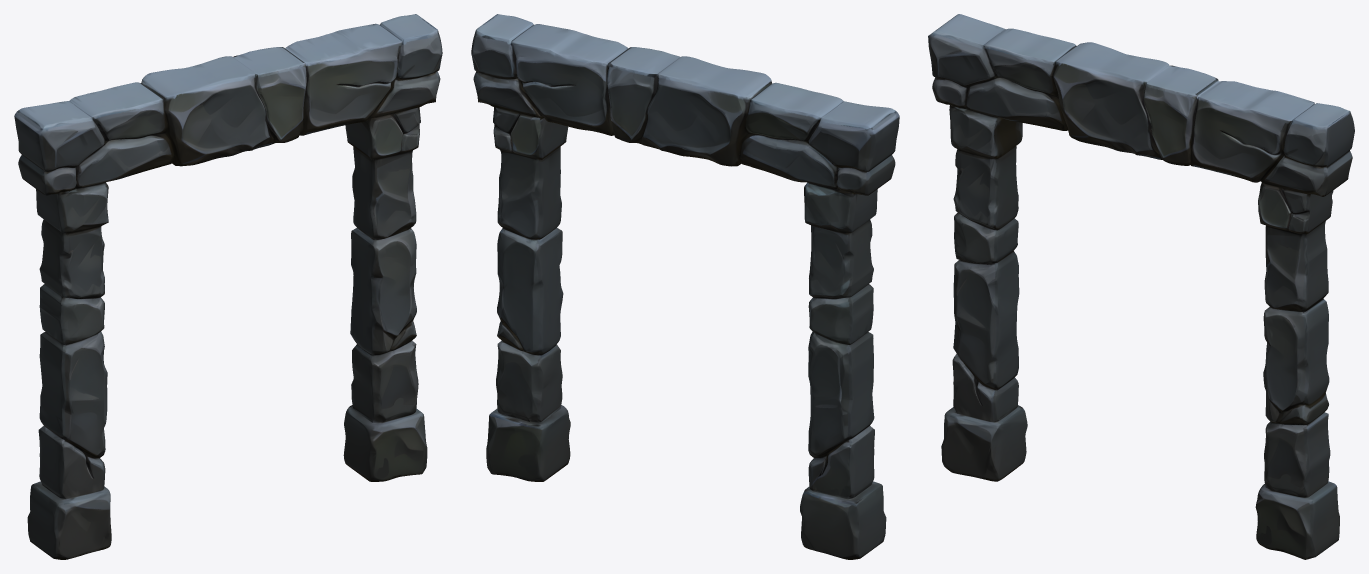
Rendered from arc2_1024.glb.
3 renders of one model, left to right at view 1: azimuth 30°, elevation 25°; view 2: azimuth 150°, elevation 25°; view 3: azimuth 330°, elevation 25°, orthographic.
Visible parts, largest first — view 1: node_0; view 2: node_0; view 3: node_0.
Boxes of the visible parts, x1,y1,x2,y2 form: node_0: [14, 14, 442, 559]; node_0: [471, 14, 899, 559]; node_0: [928, 14, 1354, 559].
Bounding box in the file's own units: 0.8363 × 0.871 × 0.1211.
1 material, 1 textured.
